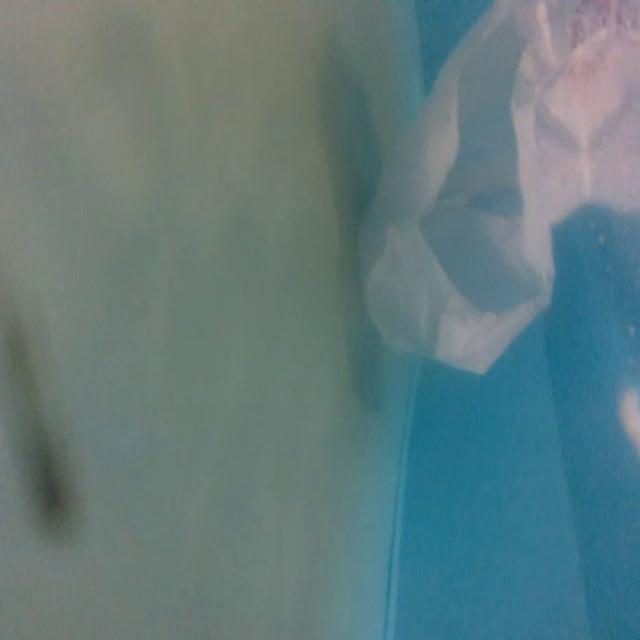plastic bags: (348, 3, 640, 383)
